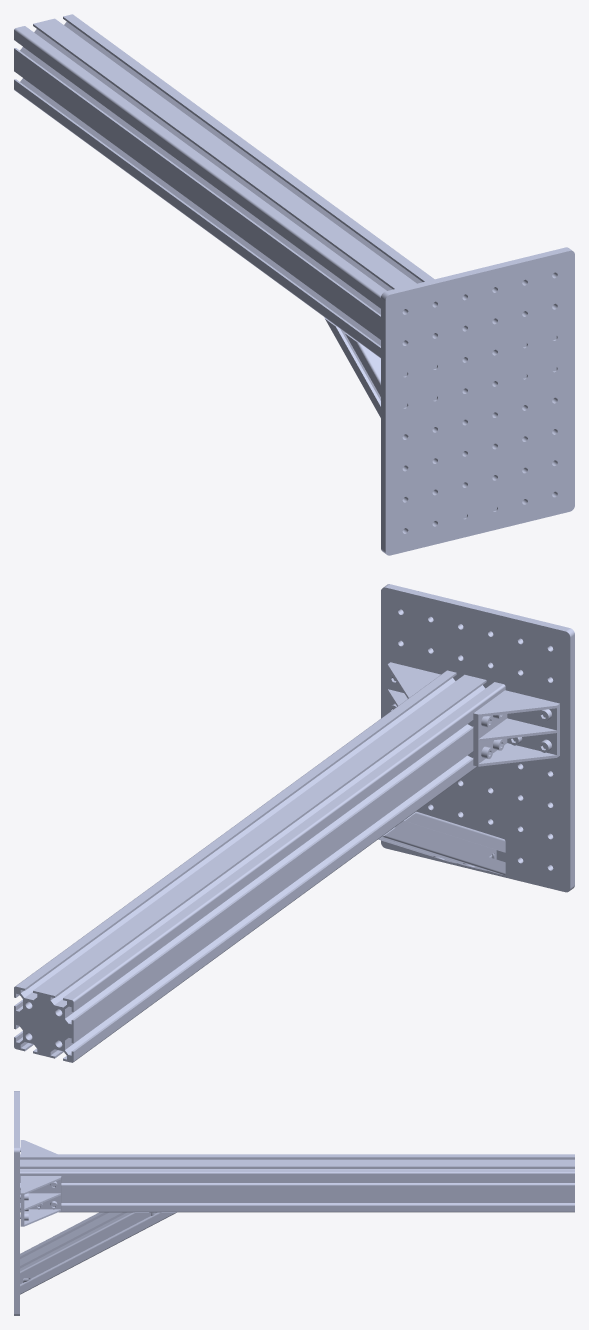
Rendered from pedestal_link0.dae.
The picture shows the model from 3 angles, top to bottom: view 1: azimuth 30°, elevation 25°; view 2: azimuth 150°, elevation 25°; view 3: azimuth 270°, elevation 25°; orthographic projection. The views are drawn at different scales.
Parts seen in each view (by area): view 1: node0, node1, node28; view 2: node1, node0, node2, node28, node15; view 3: node1, node28, node15, node0, node2.
Boxes of the visible parts, left/top/right/bottom form: node0: left=381, top=247, right=574, bottom=555; node1: left=14, top=14, right=434, bottom=358; node28: left=324, top=317, right=380, bottom=417; node1: left=14, top=670, right=505, bottom=1062; node0: left=381, top=584, right=574, bottom=892; node2: left=473, top=690, right=559, bottom=766; node28: left=378, top=811, right=505, bottom=874; node15: left=387, top=662, right=440, bottom=713; node1: left=20, top=1154, right=574, bottom=1212; node28: left=20, top=1212, right=176, bottom=1294; node15: left=20, top=1176, right=61, bottom=1226; node0: left=14, top=1091, right=19, bottom=1315; node2: left=20, top=1140, right=57, bottom=1154.
Bounding box in the file's own units: 0.19 × 0.758 × 0.25.
